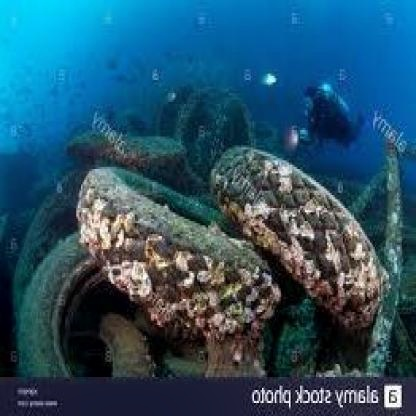tire: (96, 158, 296, 356), (229, 136, 389, 330), (27, 214, 130, 375), (146, 76, 257, 173)
